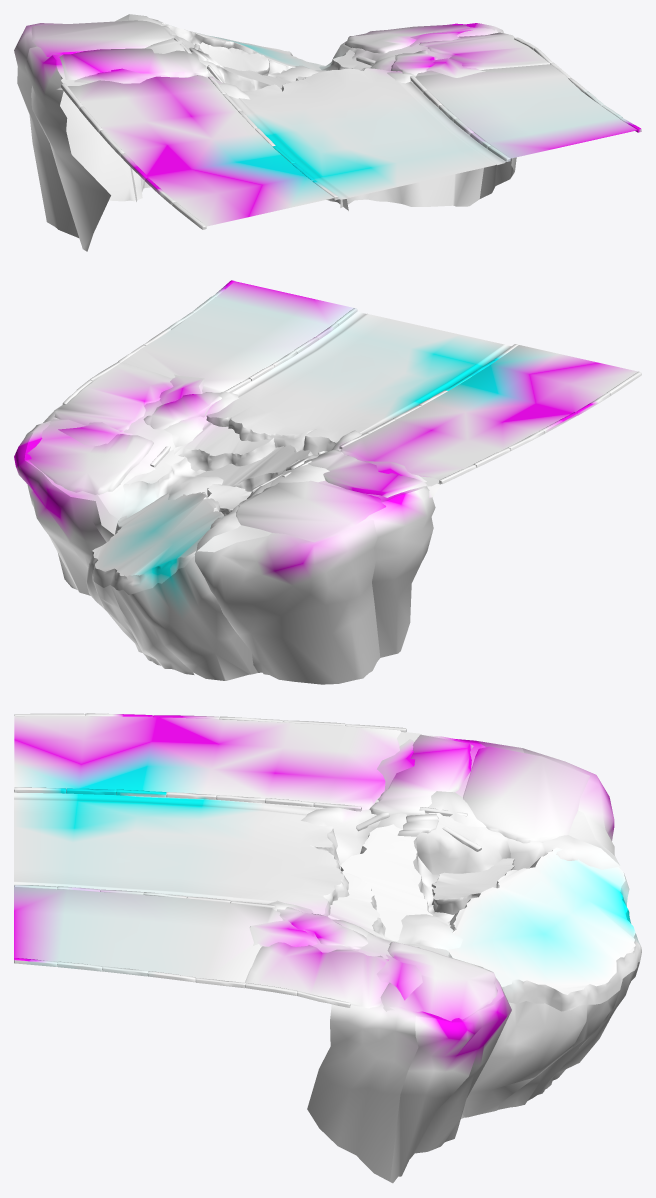
File: Stage01_Floor_03.fbx
3 views of the same model, one above another, from view 1: azimuth 30°, elevation 25°; view 2: azimuth 150°, elevation 25°; view 3: azimuth 270°, elevation 25° (orthographic). The views are drawn at different scales.
Parts seen in each view (by area): view 1: 001_M_SM.001; view 2: 001_M_SM.001; view 3: 001_M_SM.001.
Part boxes in pixels (x1,y1,x2,y2): 001_M_SM.001: [14, 14, 641, 251]; 001_M_SM.001: [14, 280, 641, 684]; 001_M_SM.001: [14, 713, 641, 1183].
Size of the model in its own units: 5125 by 2219 by 5264.
